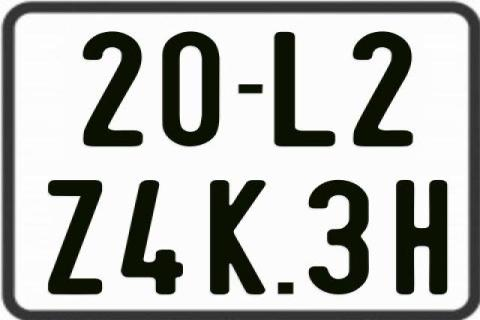0: (120, 178, 187, 296), (162, 31, 226, 148), (353, 30, 415, 146), (306, 179, 368, 295), (81, 31, 141, 148)
H: (394, 178, 449, 292)
K: (208, 180, 266, 294)
L: (274, 31, 339, 145)
Z: (46, 179, 106, 293)
